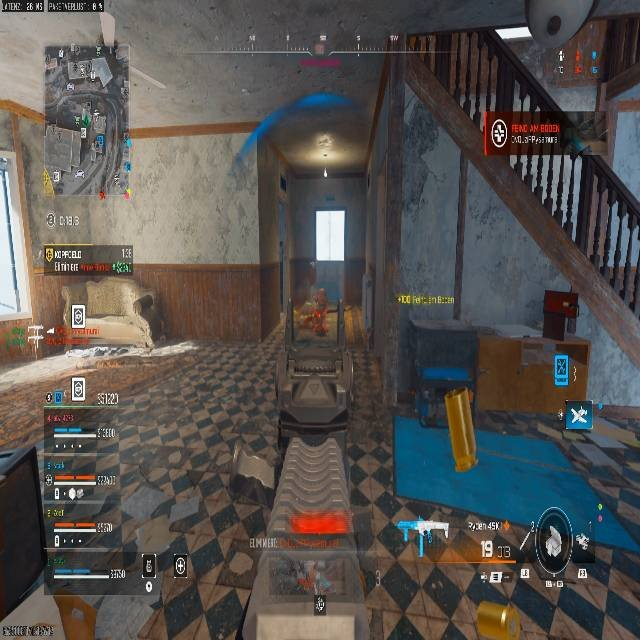head: (317, 288, 326, 298)
player: (309, 287, 329, 336)
